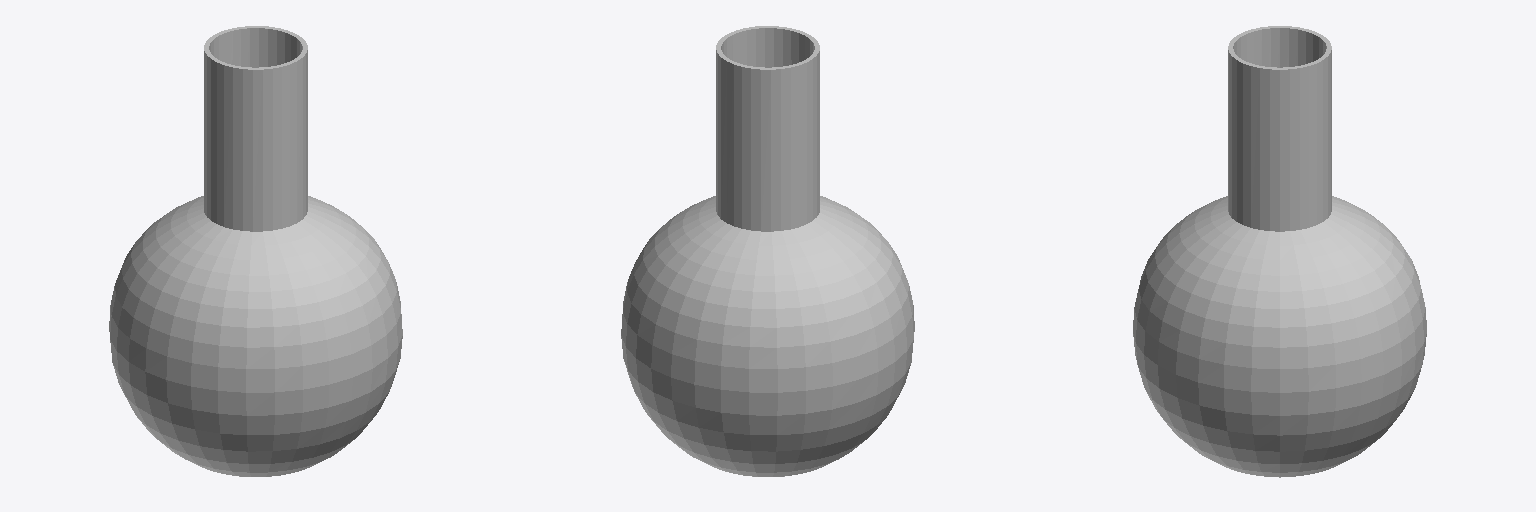
Rendered from flask.obj.
3 views of the same model, side by side, from view 1: azimuth 30°, elevation 25°; view 2: azimuth 150°, elevation 25°; view 3: azimuth 270°, elevation 25° (orthographic).
Parts seen in each view (by area): view 1: flask; view 2: flask; view 3: flask.
Part boxes in pixels (left/top/right/bottom): flask: left=109, top=26, right=402, bottom=476; flask: left=621, top=26, right=914, bottom=476; flask: left=1133, top=26, right=1426, bottom=477.
Bounding box in the file's own units: 0.2828 × 0.4414 × 0.2828.